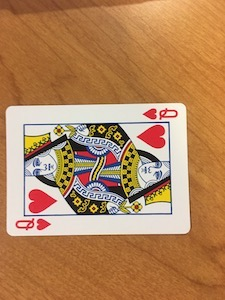QueenOfHearts: (2, 101, 193, 239)
